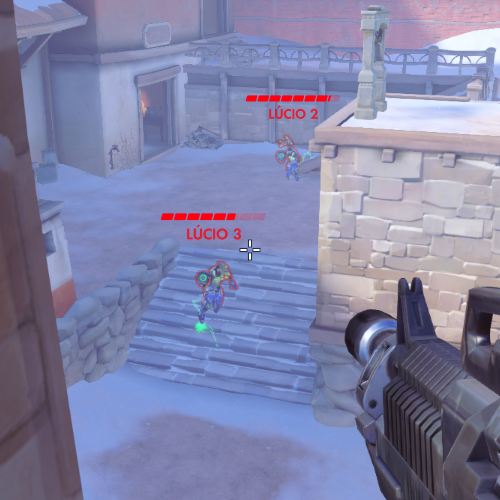hpbar: (160, 212, 266, 221), (245, 94, 341, 103)
